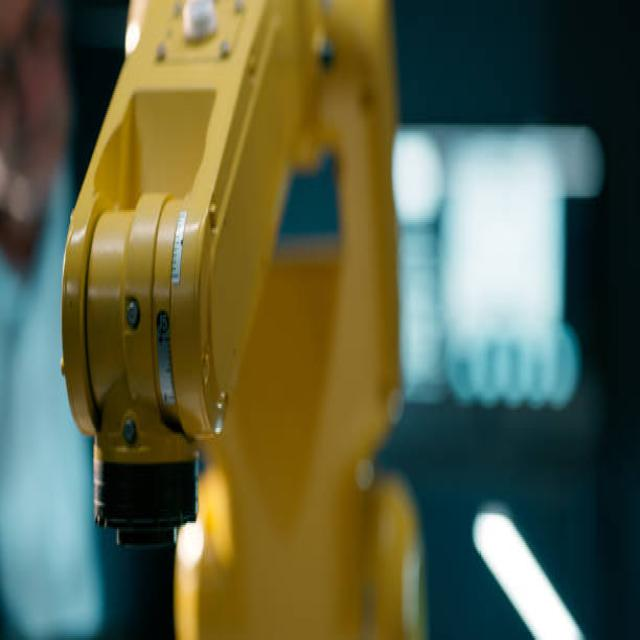Robotic-arm: (58, 0, 422, 640)
